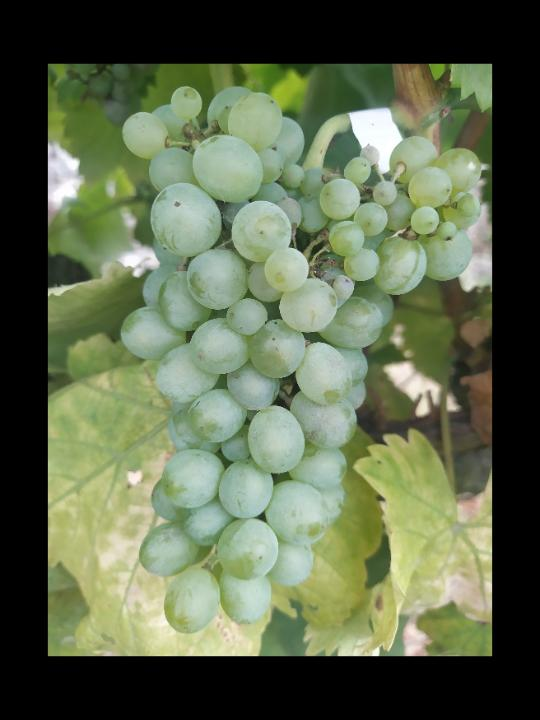grape: (118, 82, 484, 636)
